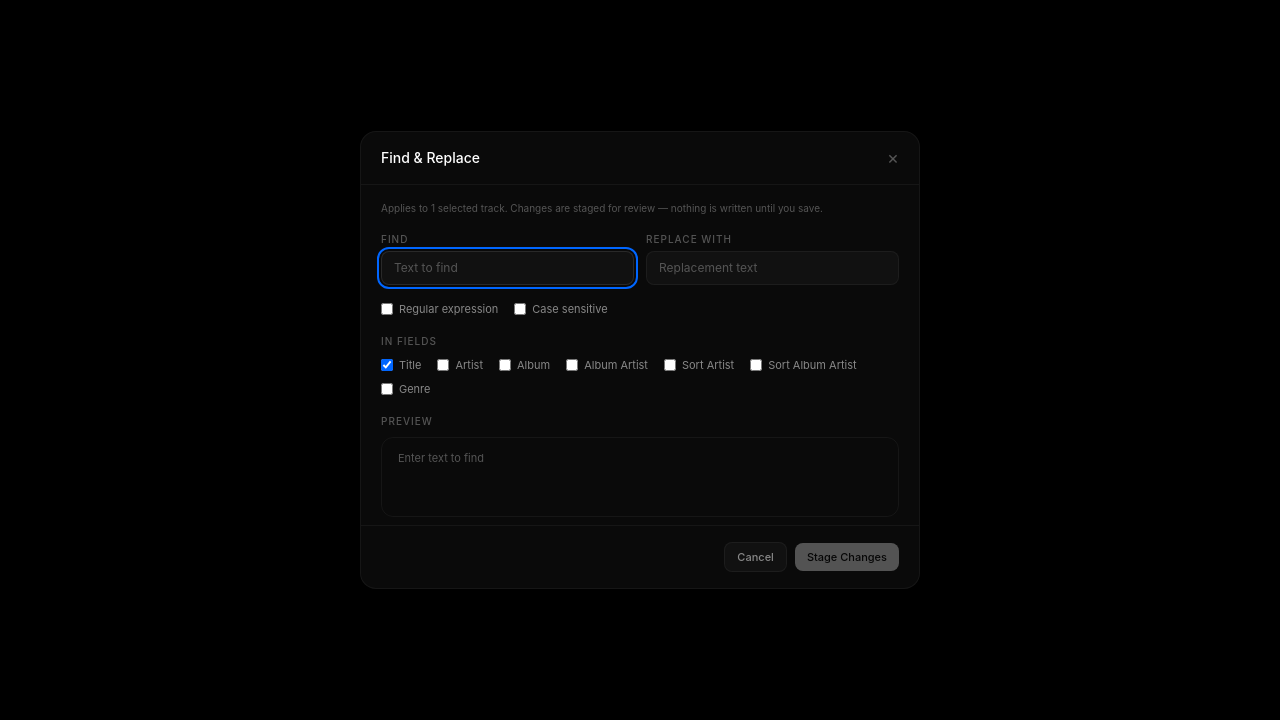
Test case: FindReplaceModal › previews matches after the debounce
In the field with test id "find-input": (508, 268) [381,251,634,285], type " (Live)"
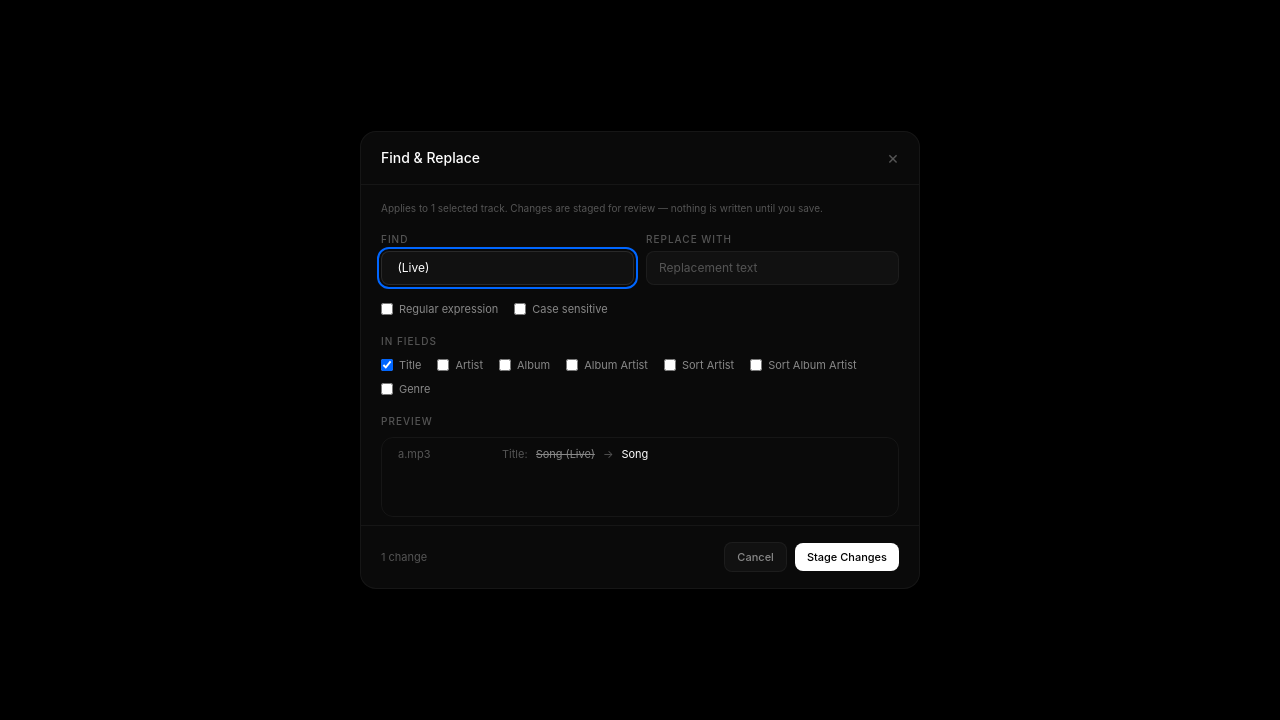
Check: the element with test id "find-replace-preview" is shown, box [398,446,648,460]
Check: the text "1 change" is shown, box [381,548,427,565]
Check: the text "Song (Live)" is shown, box [536,446,595,462]
